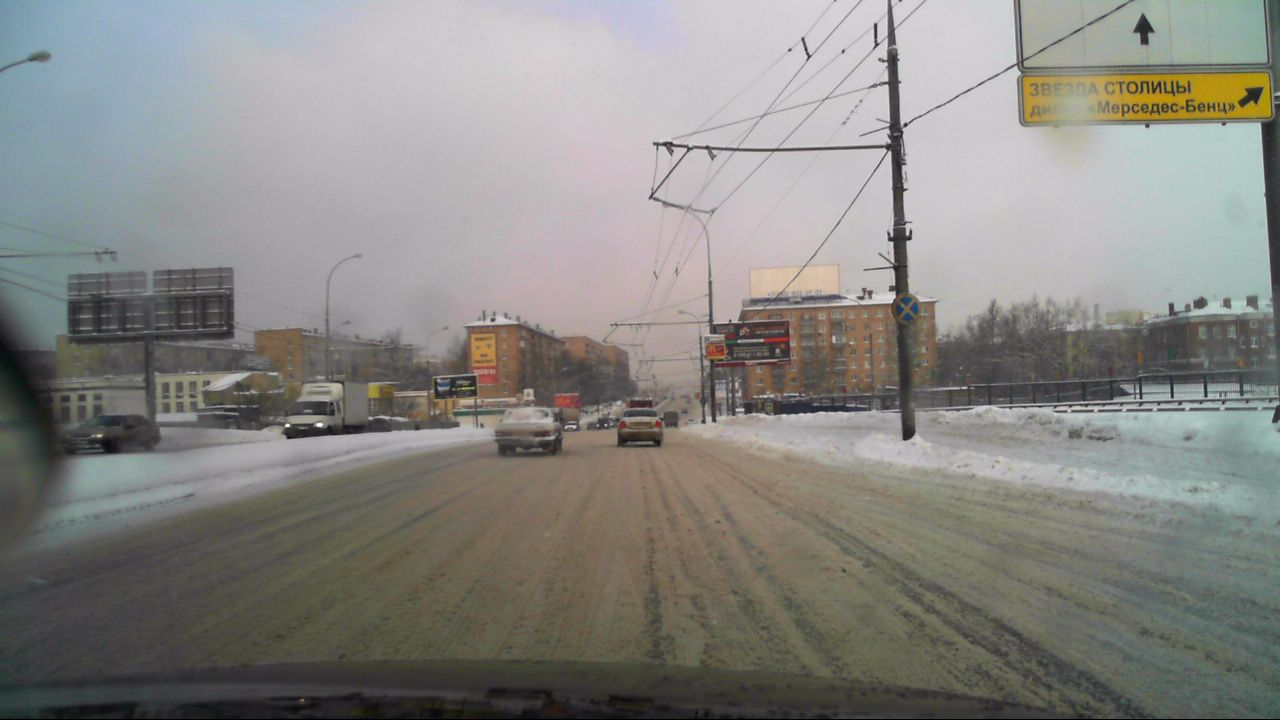No Parking: (889, 290, 925, 324)
